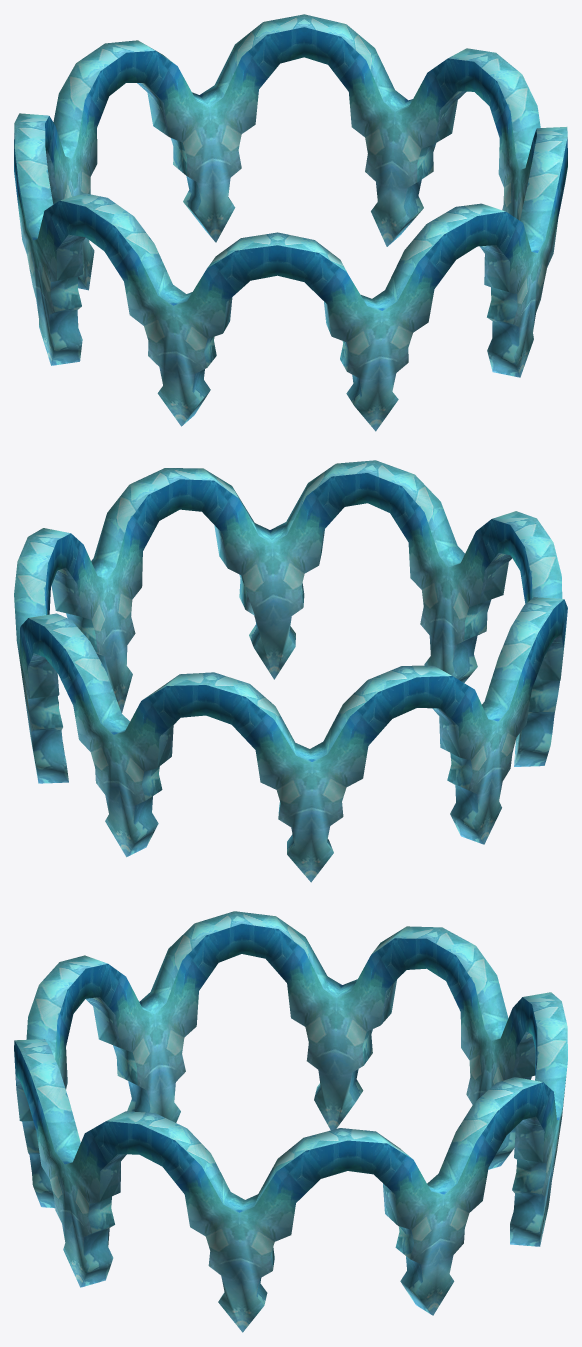
File: t_shuijingdizuo.FBX
3 views of the same model, one above another, from view 1: azimuth 30°, elevation 25°; view 2: azimuth 150°, elevation 25°; view 3: azimuth 270°, elevation 25° (orthographic).
Parts seen in each view (by area): view 1: t_shuijingdizuo; view 2: t_shuijingdizuo; view 3: t_shuijingdizuo.
Part boxes in pixels (<box>): t_shuijingdizuo: <box>14,14,567,431</box>; t_shuijingdizuo: <box>14,460,567,882</box>; t_shuijingdizuo: <box>14,911,567,1332</box>.
Bounding box in the file's own units: 3334 × 1349 × 3340.
